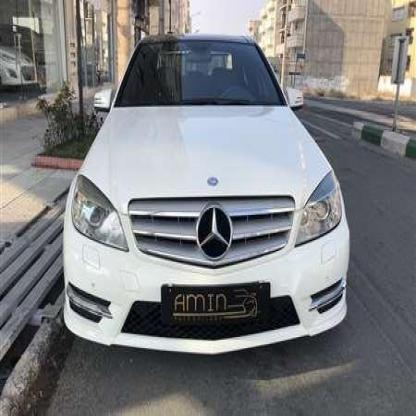Car: (62, 36, 352, 359), (0, 46, 43, 93)
